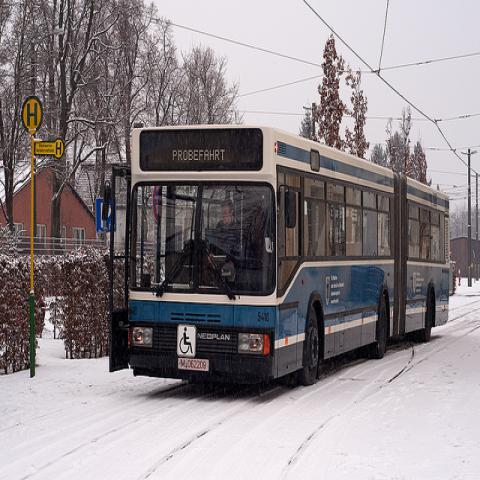bus: (105, 120, 449, 389)
